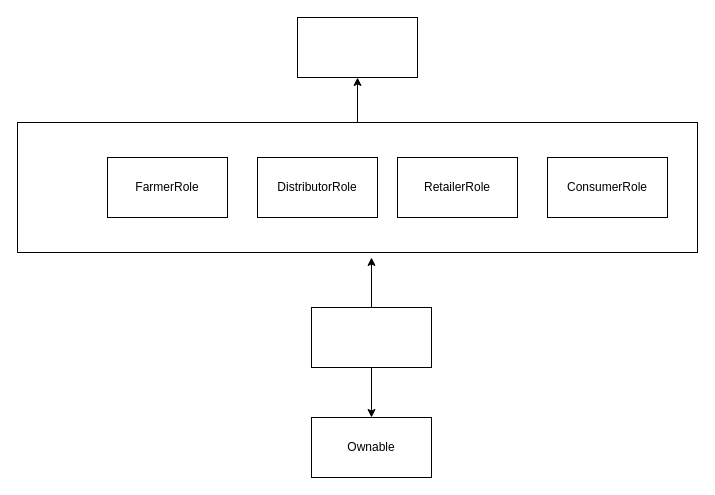
This 715x495 diagram has some shape labels left out. Here are the shapes that lost their labels. From the top down, the centre of each, then its label:
the point at 357,47: Roles
the point at 371,337: SupplyChain
